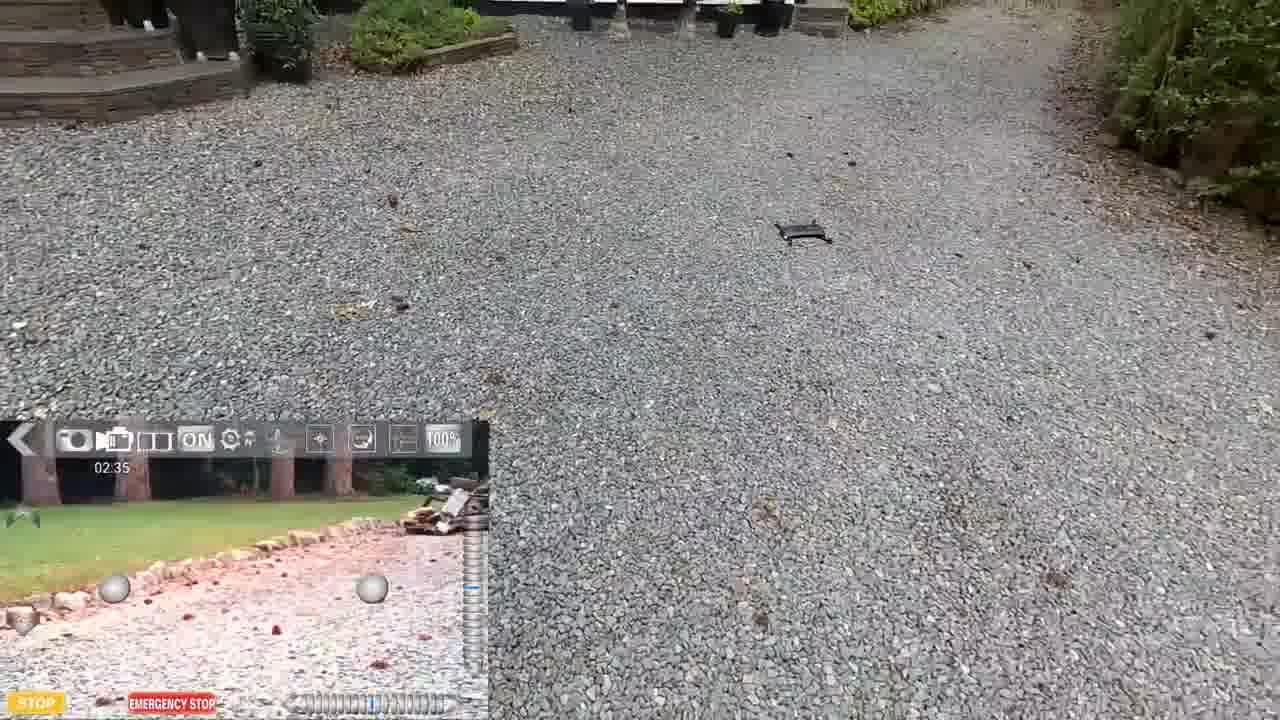drone: (766, 214, 844, 253)
